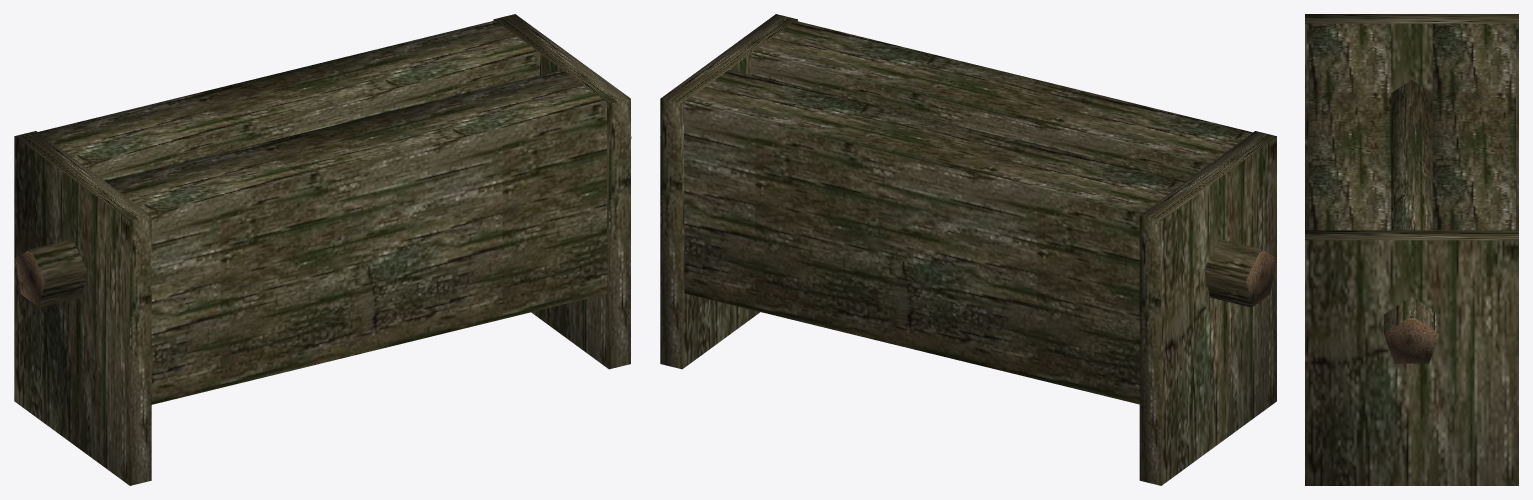
File: DT_CHAINBOX.glb
The picture shows the model from 3 angles, left to right: view 1: azimuth 30°, elevation 25°; view 2: azimuth 150°, elevation 25°; view 3: azimuth 270°, elevation 25°; orthographic projection. The views are drawn at different scales.
Visible parts, largest first — view 1: Mesh; view 2: Mesh; view 3: Mesh.
Part boxes in pixels (x1,y1,x2,y2): Mesh: (14, 14, 631, 485); Mesh: (660, 14, 1276, 485); Mesh: (1305, 14, 1518, 485).
Bounding box in the file's own units: 1.48 × 0.6398 × 0.5047.
Materials: 2 (2 with a texture image).
